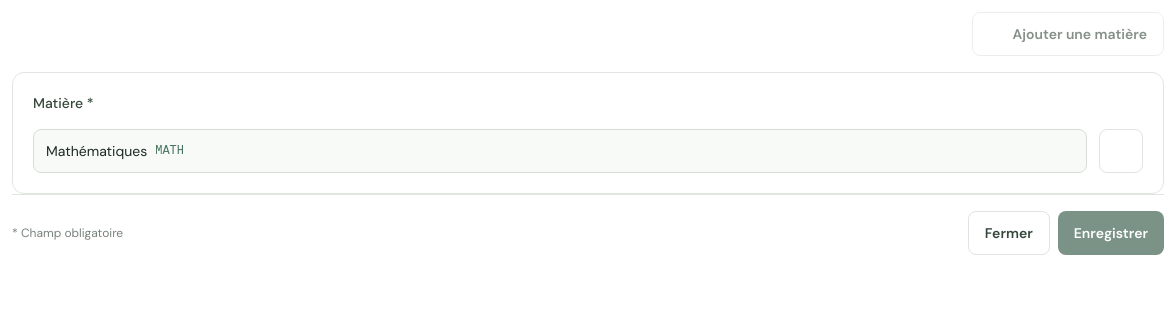
ClassSubjectManagerComponent › confirme le retrait et conserve l’affectation après un refus serveur
The width and height of the screenshot is (1176, 326).
What coordinates should you click on to do the following:
click the button named "Retirer la matière Mathématiques"
I would click on:
 (1121, 151)
Its box is x1=1099 y1=129 x2=1143 y2=173.
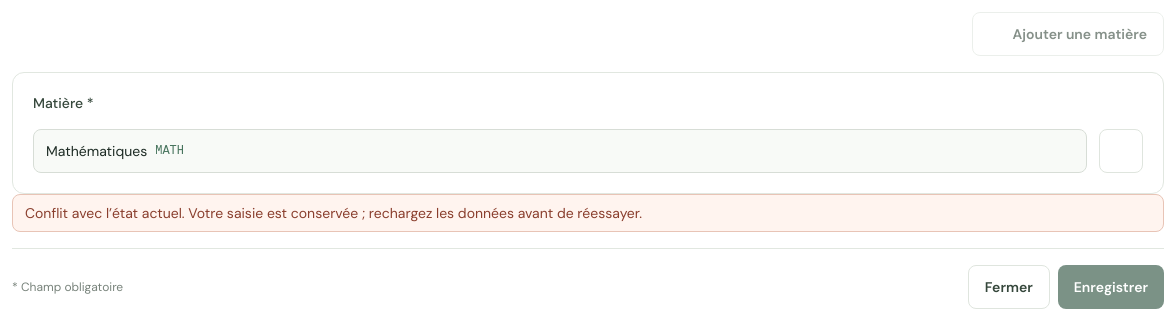
Check: the message is shown, box x1=12 y1=194 x2=1164 y2=232
What coordinates should you click on to do the following:
click the button named "Retirer la matière Mathématiques"
I would click on:
 (1121, 151)
Its box is x1=1099 y1=129 x2=1143 y2=173.
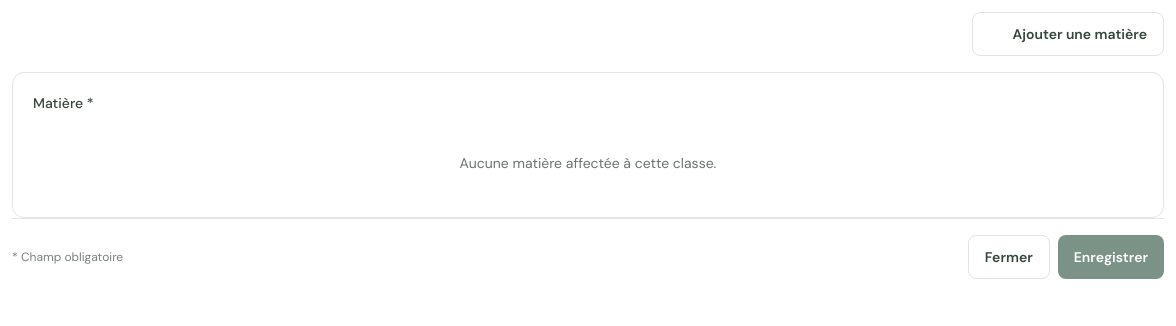
Check: the text "Aucune matière affectée" is shown, box x1=460 y1=154 x2=716 y2=172
